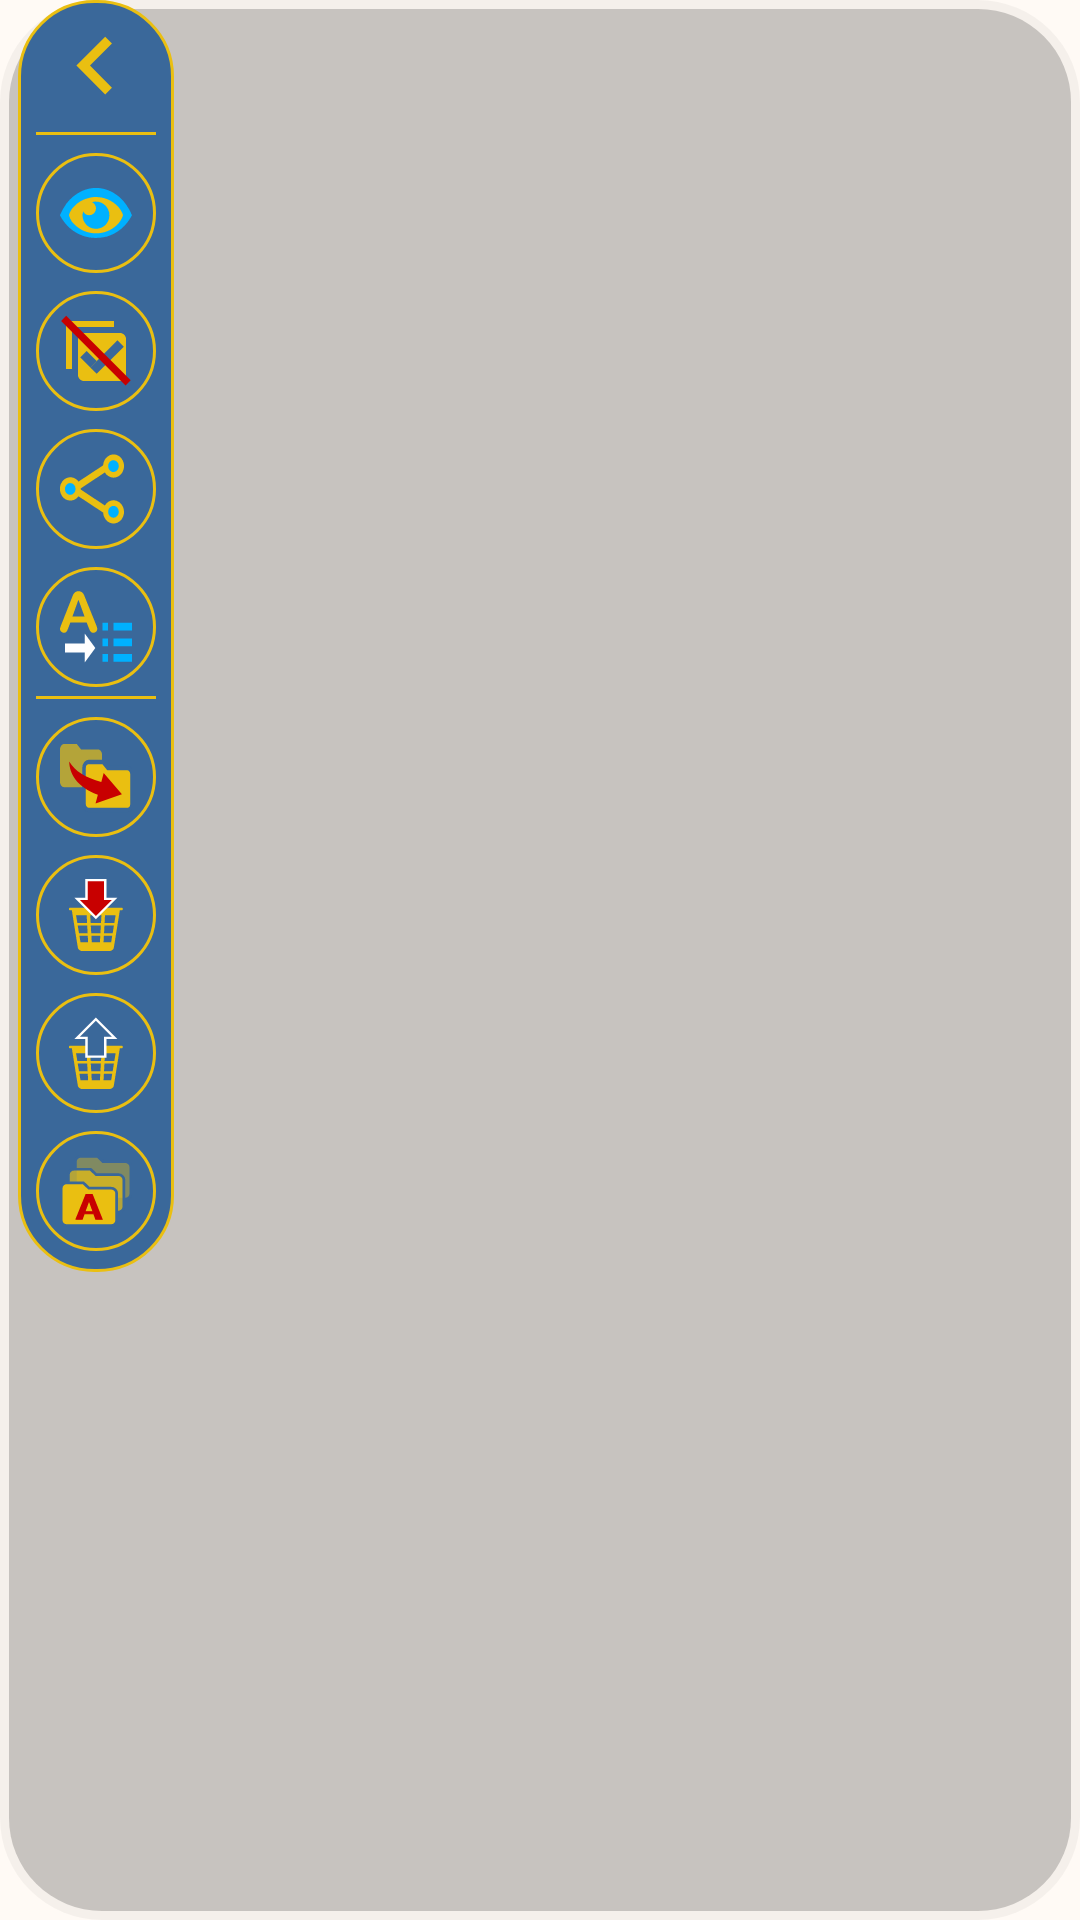

Screen size 1080 x 1920. Icon name, then its box in pixels as detection(x1, y1, x2, y2):
archive mode: detection(36, 1131, 156, 1251)
arrow left: detection(76, 37, 112, 95)
convert text: detection(36, 567, 156, 687)
del mark: detection(36, 291, 156, 411)
del mode yell: detection(36, 855, 156, 975)
eye: detection(36, 153, 156, 273)
move mode: detection(36, 717, 156, 837)
rest mode yell: detection(36, 993, 156, 1113)
send: detection(36, 429, 156, 549)
